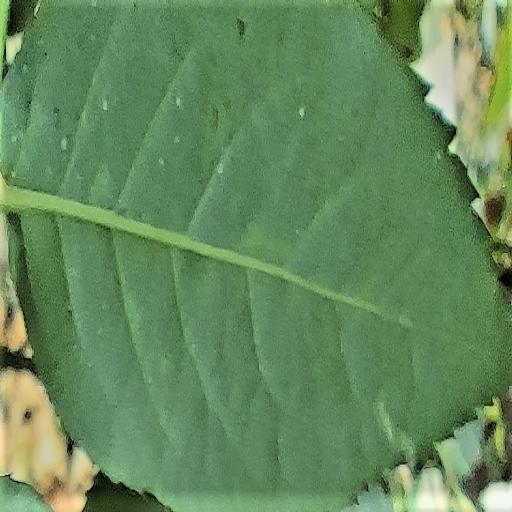healthy_leaf: (0, 2, 511, 511)
